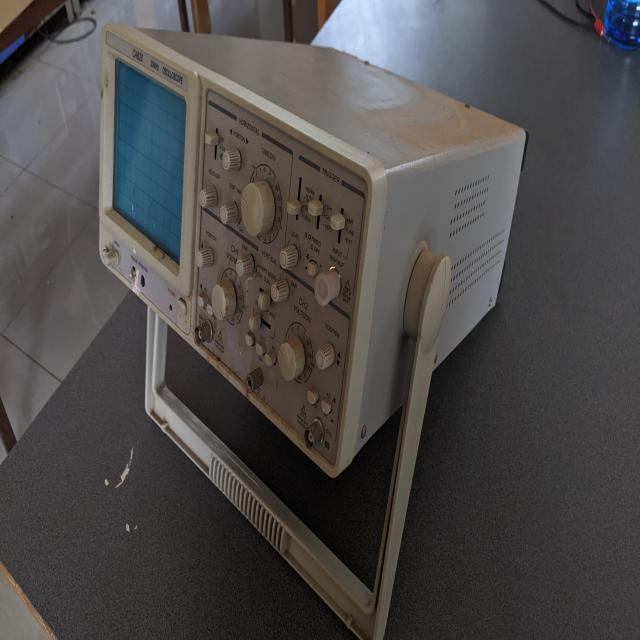Cathode Ray Oscilloscope: (93, 11, 528, 633)
